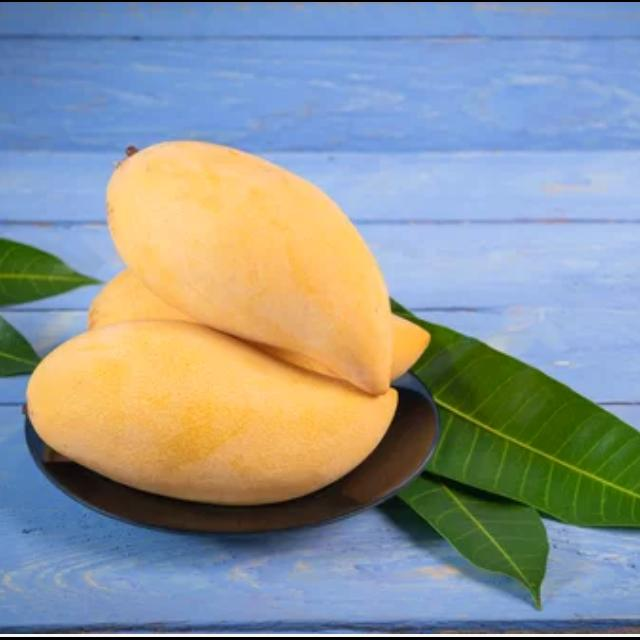mango: (106, 133, 394, 395), (24, 320, 402, 505)
